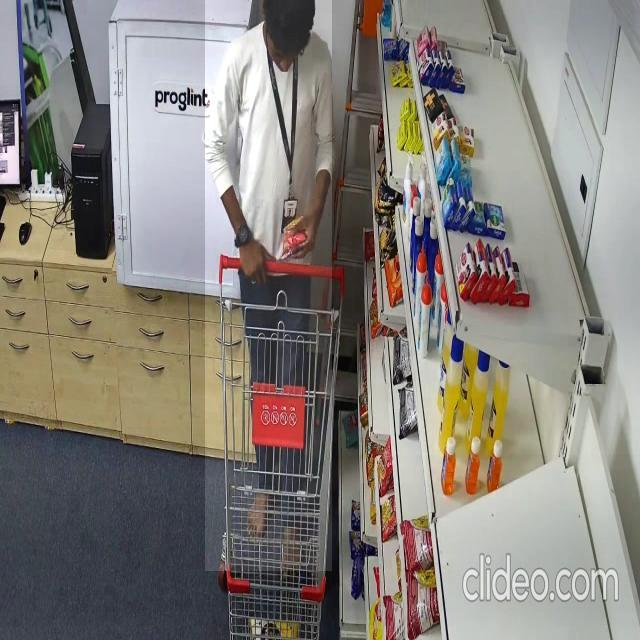normal: (205, 0, 332, 571)
